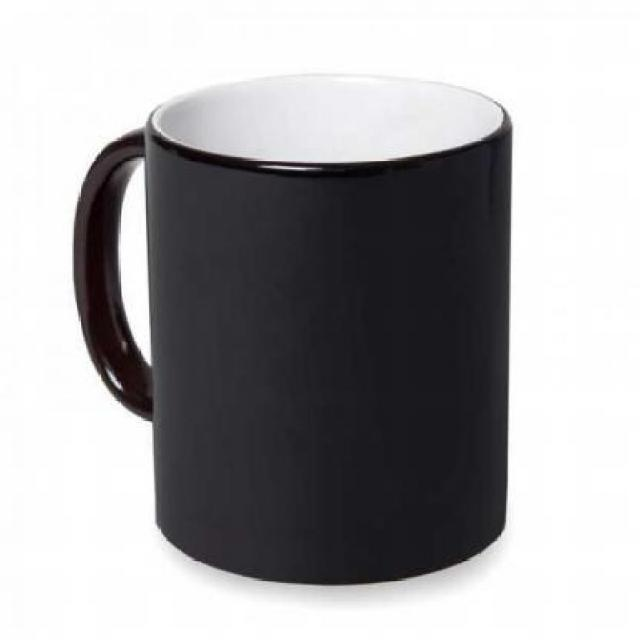taza: (70, 71, 513, 586)
